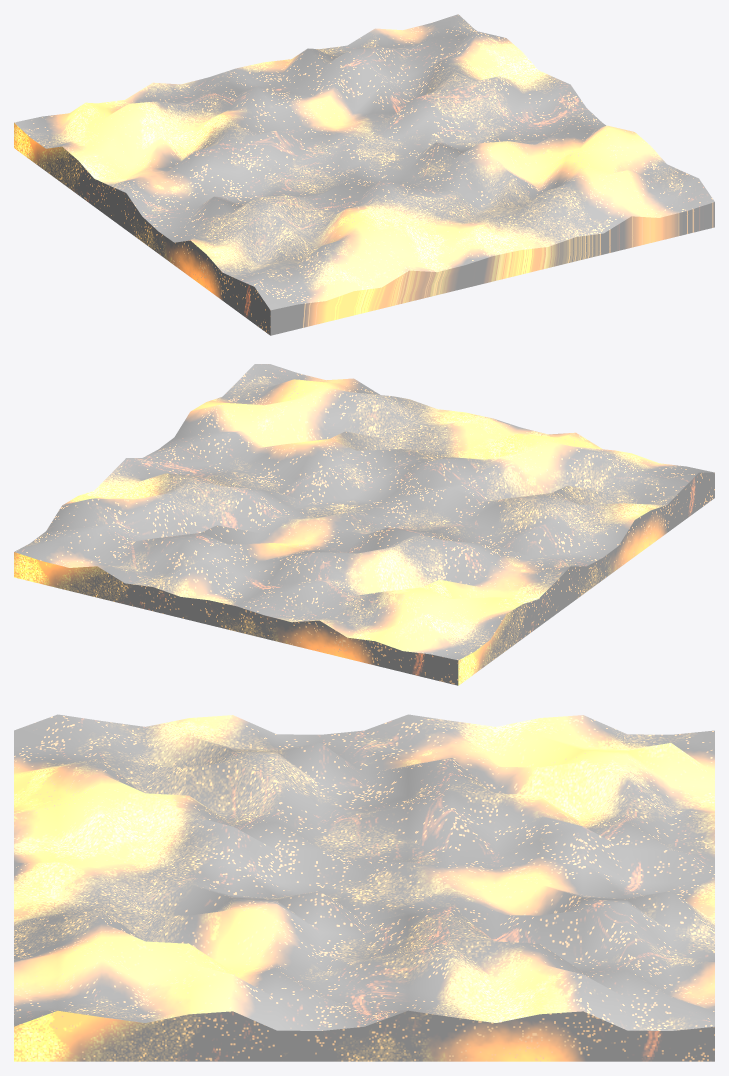
File: S_Lava.fbx
3 renders of one model, top to bottom at view 1: azimuth 30°, elevation 25°; view 2: azimuth 150°, elevation 25°; view 3: azimuth 270°, elevation 25°, orthographic. The views are drawn at different scales.
Visible parts, largest first — view 1: S_Lava; view 2: S_Lava; view 3: S_Lava.
Boxes of the visible parts, x1,y1,x2,y2 form: S_Lava: [14, 14, 714, 335]; S_Lava: [14, 364, 714, 685]; S_Lava: [14, 714, 714, 1061].
Bounding box in the file's own units: 400 × 43.02 × 400.
